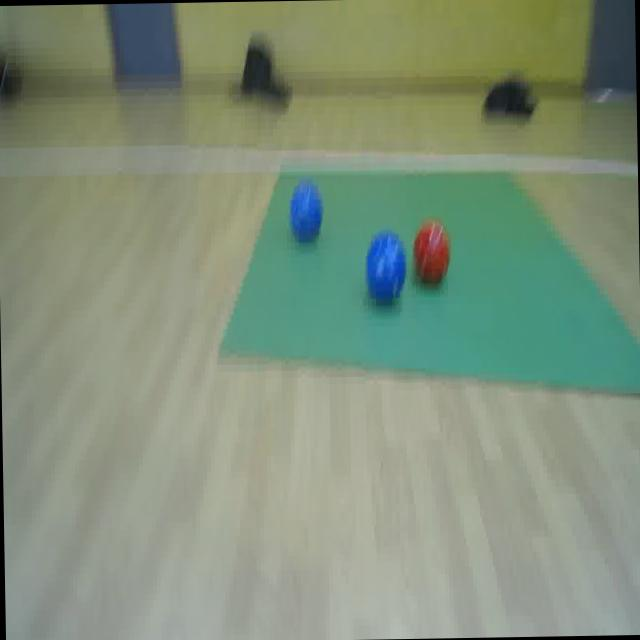blue_ball: (365, 232, 407, 304), (288, 178, 324, 242)
red_ball: (412, 218, 451, 284)
